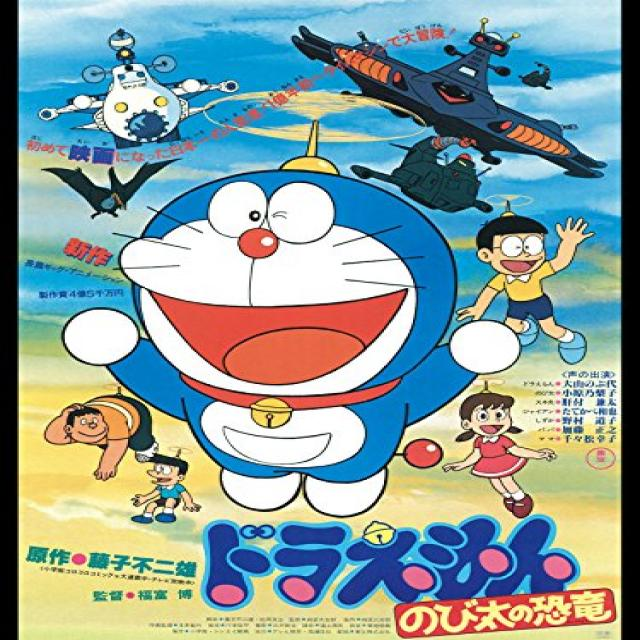doraemon: (99, 162, 454, 428)
jaian: (53, 396, 116, 444)
nobita: (468, 208, 575, 286)
shizuka: (456, 388, 527, 452)
suneo: (140, 447, 200, 490)
